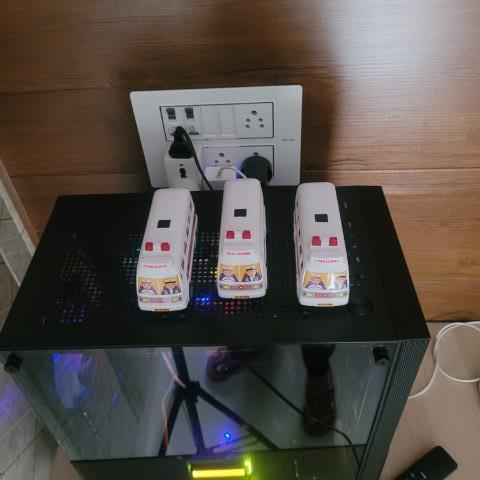ambulance: (130, 185, 204, 313), (289, 180, 356, 307), (215, 174, 271, 305)
